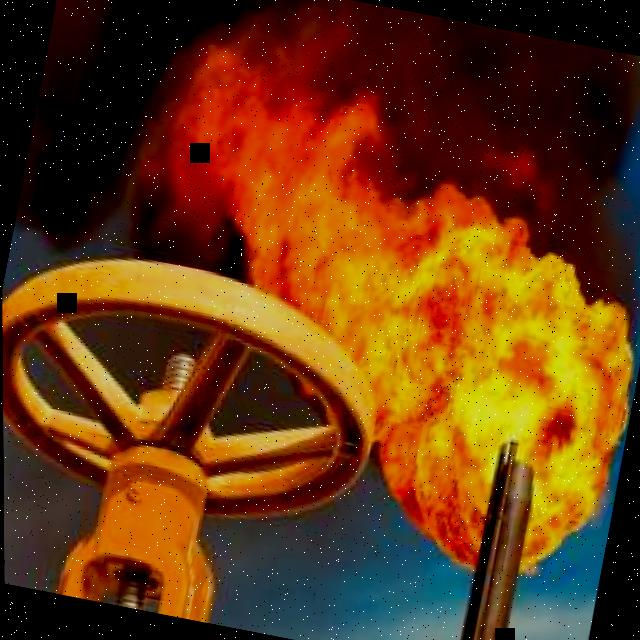fire: (168, 41, 636, 574)
smoke: (14, 0, 640, 338)
